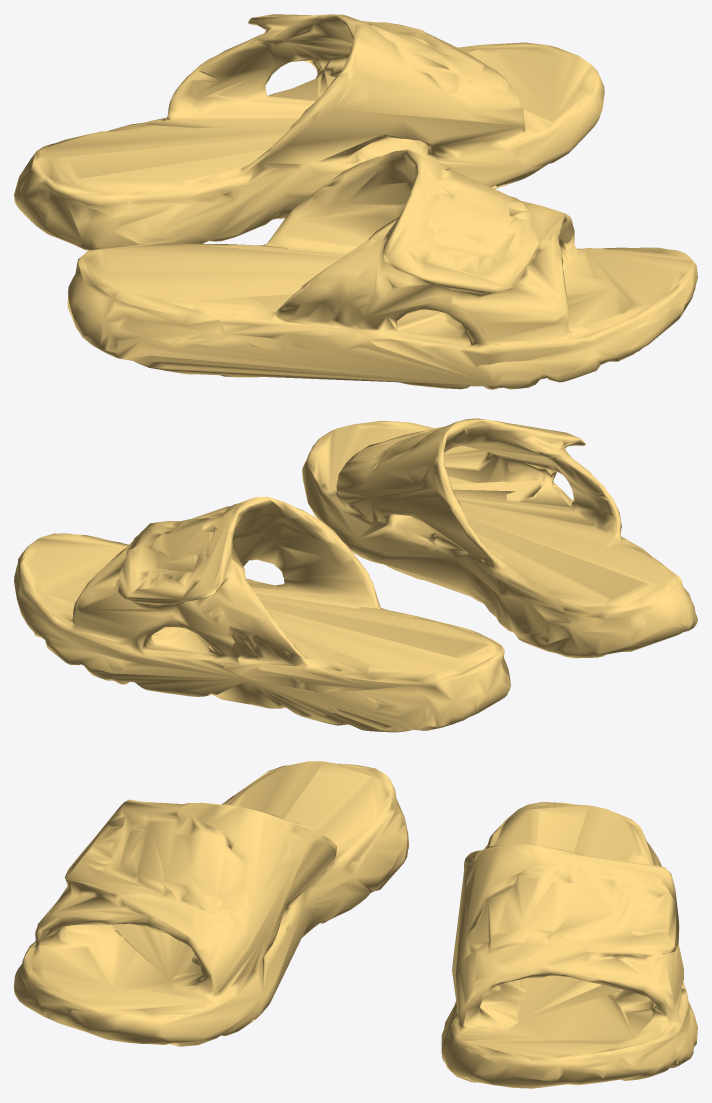
The model's file is Slipper 2.fbx.
The picture shows the model from 3 angles, top to bottom: view 1: azimuth 30°, elevation 25°; view 2: azimuth 150°, elevation 25°; view 3: azimuth 270°, elevation 25°; orthographic projection. The views are drawn at different scales.
Visible parts, largest first — view 1: submesh32, submesh32.001; view 2: submesh32.001, submesh32; view 3: submesh32, submesh32.001.
Boxes of the visible parts, x1,y1,x2,y2 form: submesh32: (67,149,697,389); submesh32.001: (14,14,604,250); submesh32.001: (14,496,510,732); submesh32: (302,418,697,658); submesh32: (14,761,408,1046); submesh32.001: (441,802,697,1088).
Bounding box in the file's own units: 24.66 × 6.53 × 23.63.
